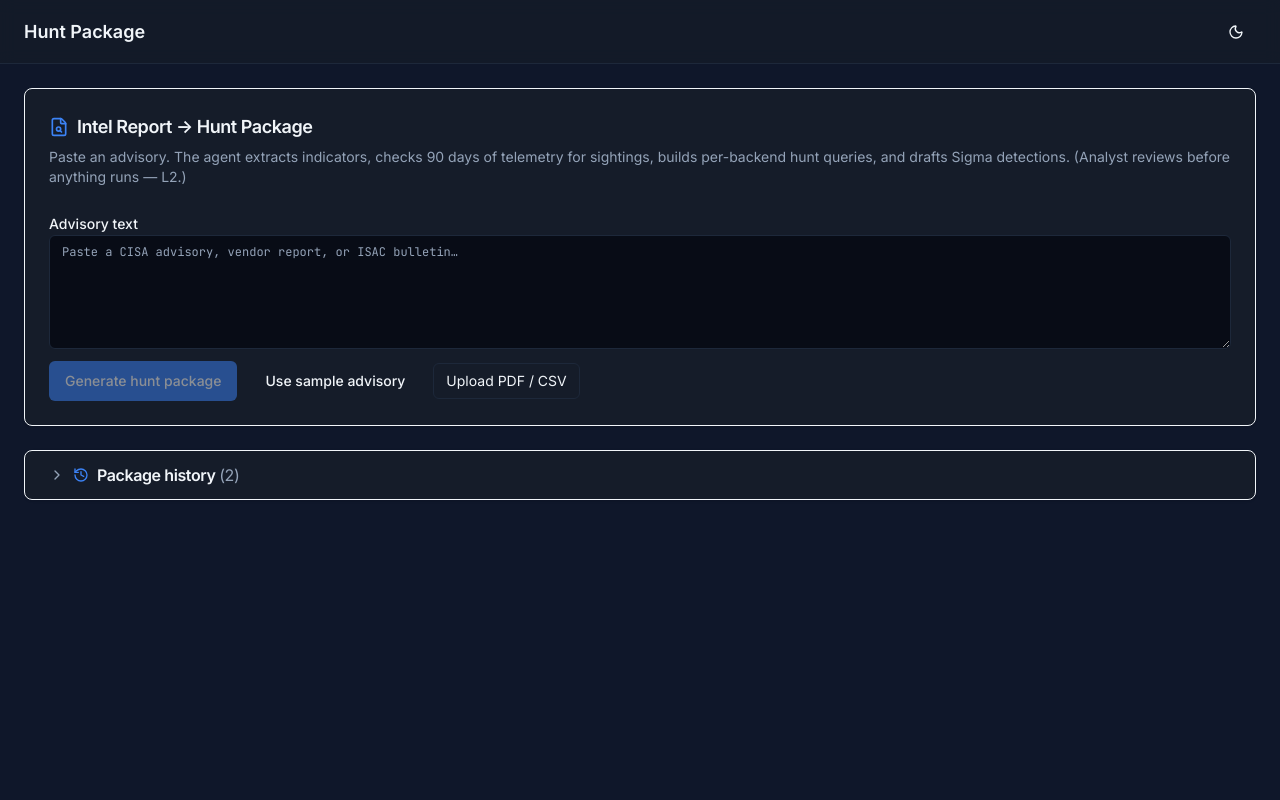
HuntPackagePage package history › renders stored summaries after the history fetch
This screenshot has width=1280, height=800.
Click the button with test id "package-history-toggle" at (156, 475), box [49, 463, 1231, 487]
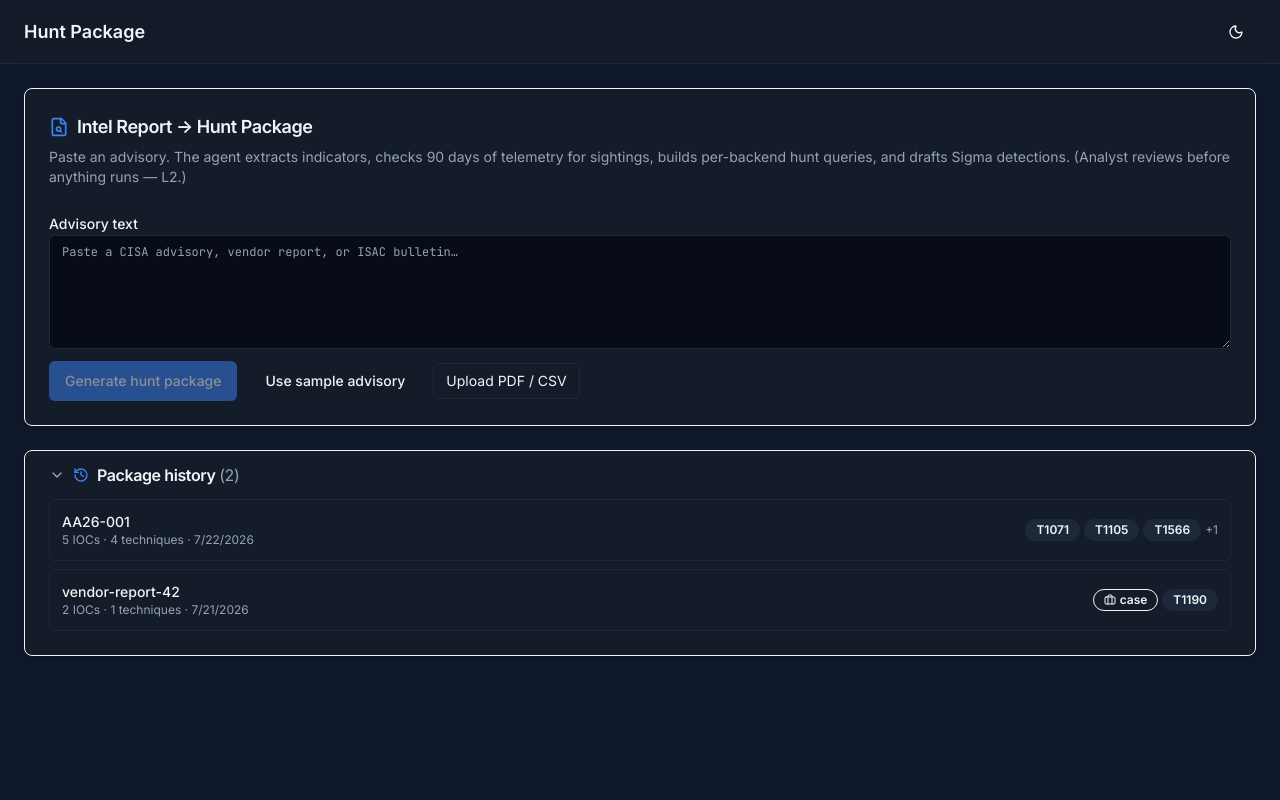
Result: the text "AA26-001" is shown at [62, 513, 130, 530]
Result: the text "vendor-report-42" is shown at [62, 583, 180, 600]
Result: the text "5 IOCs · 4 techniques · 7/22/2026" is shown at [62, 532, 254, 548]
